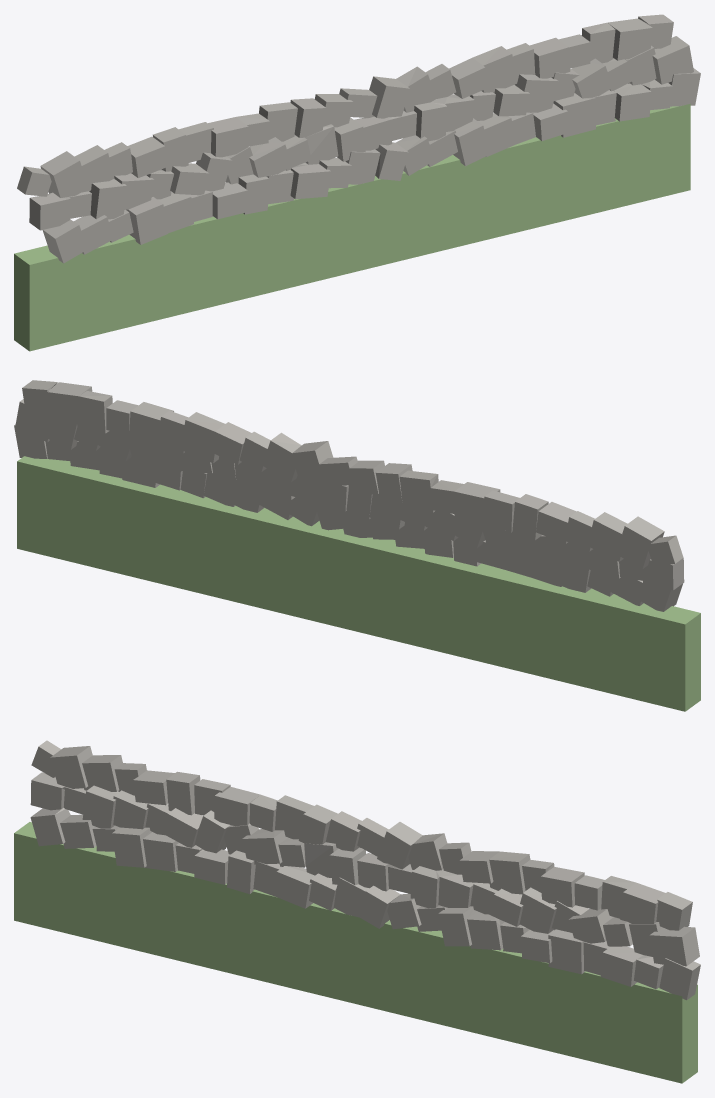
Rendered from r-115-quinsigamond-granite-riprap.glb.
3 renders of one model, top to bottom at view 1: azimuth 30°, elevation 25°; view 2: azimuth 150°, elevation 25°; view 3: azimuth 330°, elevation 25°, orthographic.
Visible parts, largest first — view 1: riprap, grass-top; view 2: grass-top, riprap; view 3: riprap, grass-top.
Part boxes in pixels (box(x1,y1,x2,y2)): riprap: box(17, 14, 700, 263); grass-top: box(14, 103, 690, 351); grass-top: box(17, 456, 700, 711); riprap: box(14, 380, 684, 611); riprap: box(30, 740, 700, 1000); grass-top: box(14, 822, 697, 1083).
Bounding box in the file's own units: 32496 × 7988 × 2000.
